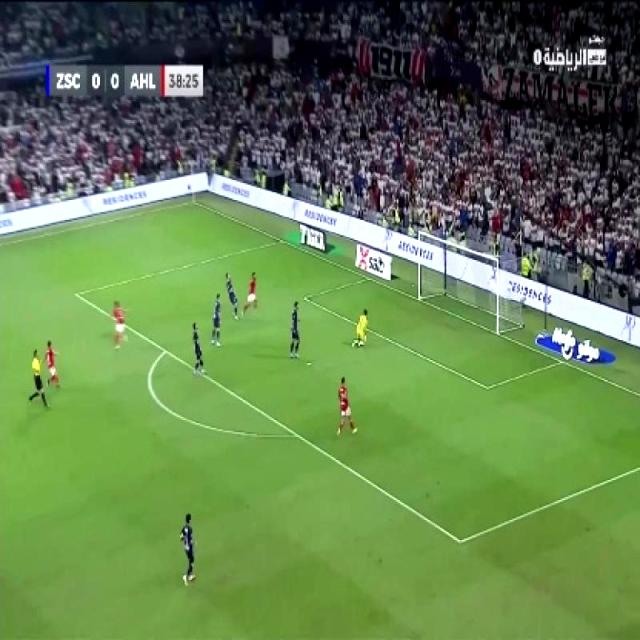bigarea_bottom_inner: (449, 524, 471, 556)
bigarea_top_inner: (66, 282, 86, 304)
bigarea_top_outter: (272, 230, 290, 248)
bottom_arc_area_intersection: (288, 422, 304, 444)
corner: (184, 195, 202, 208)
smallarea_bottom_inner: (477, 374, 495, 398)
smallarea_bottom_outter: (554, 352, 569, 370)
smallarea_top_inner: (298, 288, 312, 304)
smallarea_top_outter: (360, 268, 377, 286)
top_arc_area_intersection: (155, 338, 175, 362)
